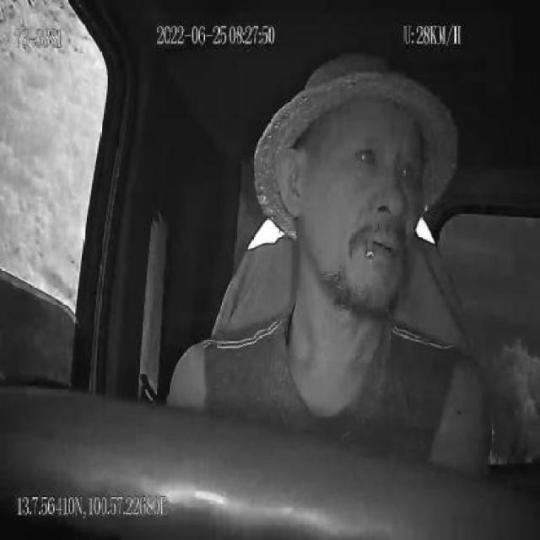smoking: (365, 234, 376, 265)
